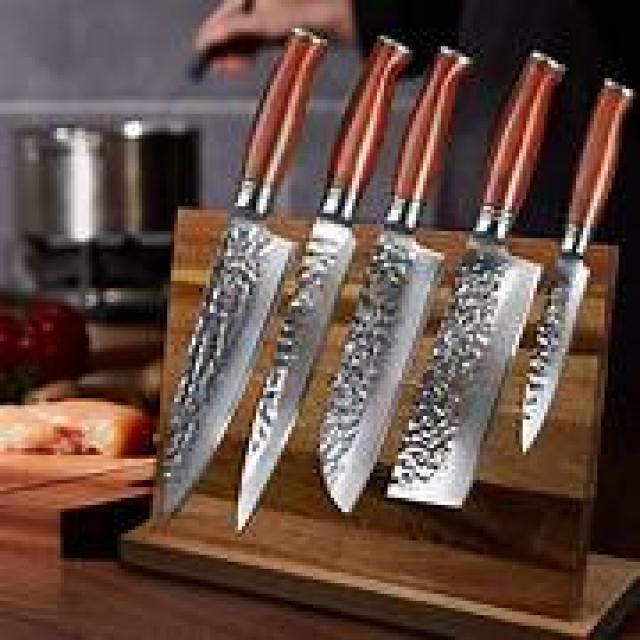Knife: (238, 36, 405, 523), (156, 28, 324, 512), (388, 53, 562, 505), (320, 53, 462, 508), (523, 78, 629, 448)
